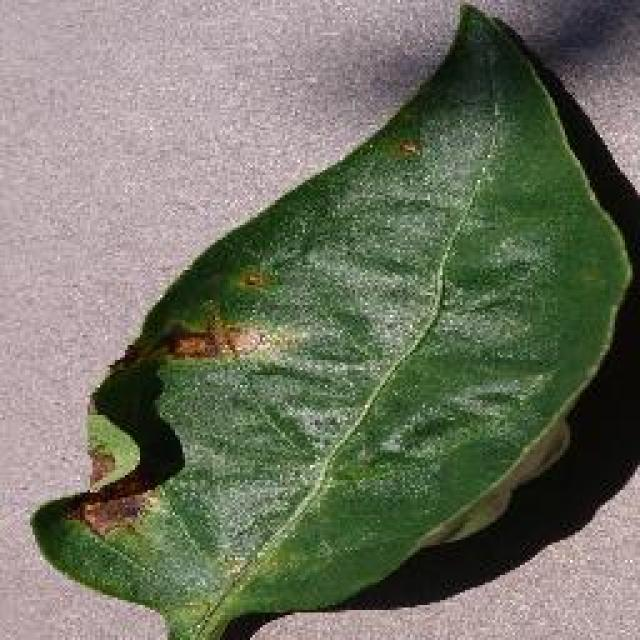Chilli_Bacterial_Spot: (28, 0, 638, 638), (68, 258, 292, 540), (155, 260, 283, 368), (72, 482, 160, 542), (160, 320, 265, 365), (228, 260, 278, 300), (165, 328, 220, 362), (82, 442, 118, 492), (232, 265, 268, 293), (390, 132, 422, 162), (632, 0, 638, 20)
